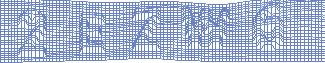2: (16, 8, 50, 58)
6: (250, 1, 285, 51)
E: (78, 12, 107, 54)
W: (179, 5, 231, 50)
Z: (130, 6, 163, 53)
